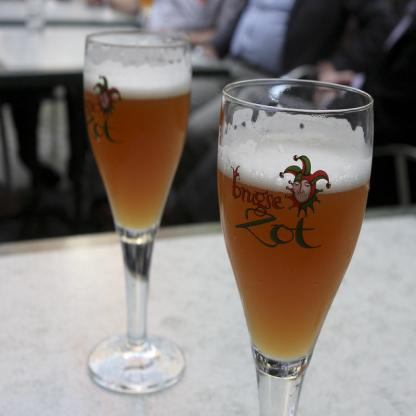drinking: (217, 79, 374, 416), (84, 31, 191, 394)
